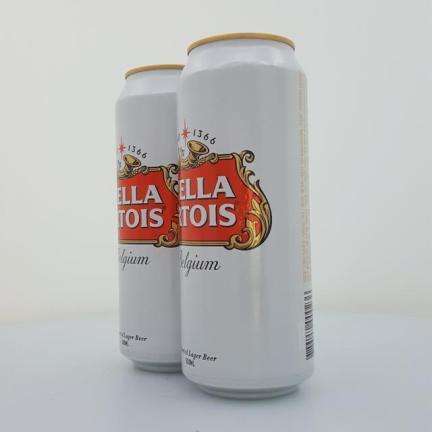can: (178, 35, 314, 398), (116, 65, 183, 372)
